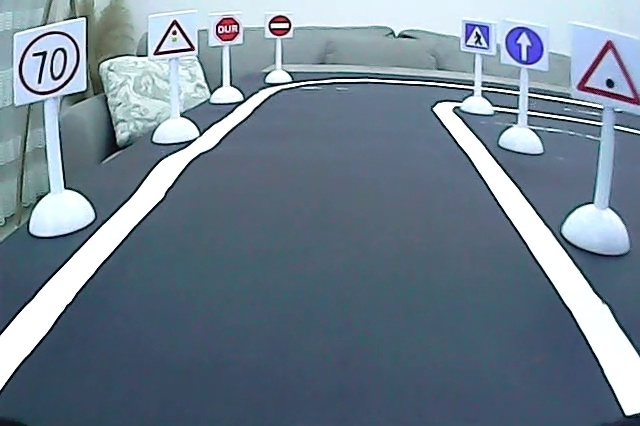do not enter: (267, 12, 293, 38)
green light: (572, 32, 640, 109)
pedestrian crossing: (463, 20, 492, 52)
red light: (149, 16, 197, 59)
speed limit 70: (15, 26, 82, 97)
stop sign: (213, 14, 242, 45)
